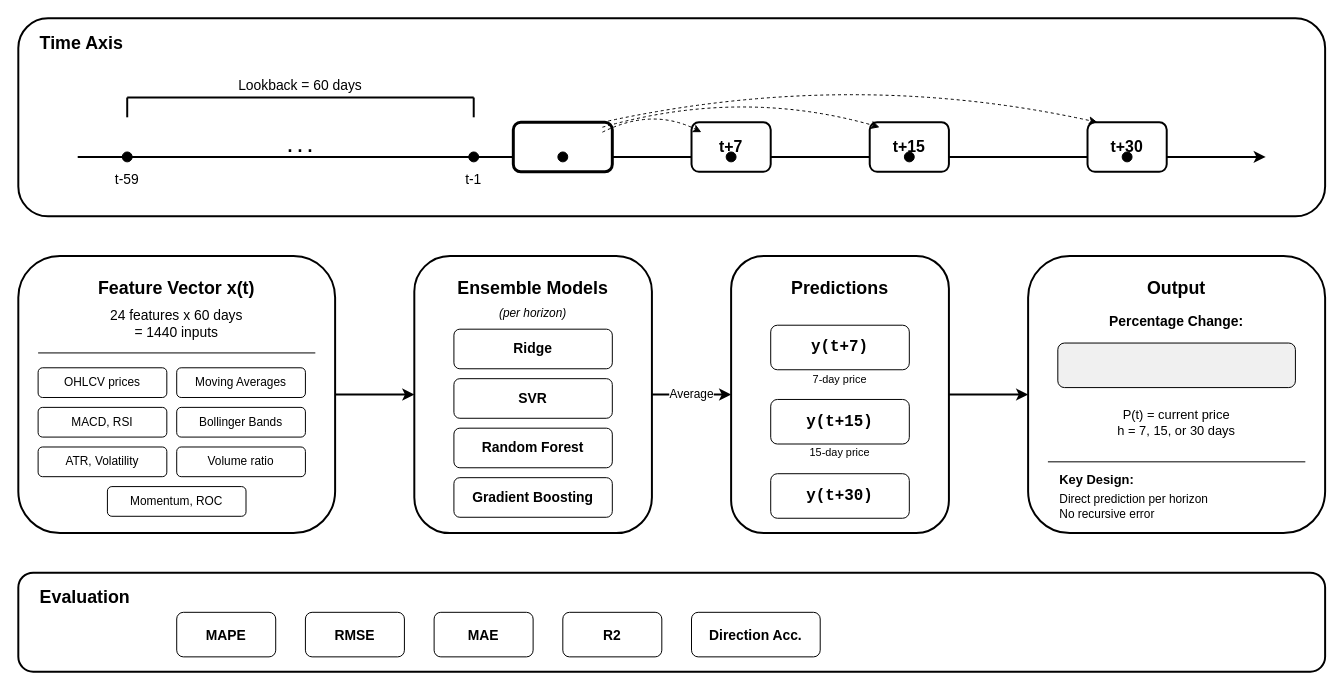
Image size: 1342x689. Some labels were removed from this diagram. Each missing label, with the centre of its shape:
[y(t+h) - P(t)] / P(t): [1176,365]
t (Today): [562,146]
